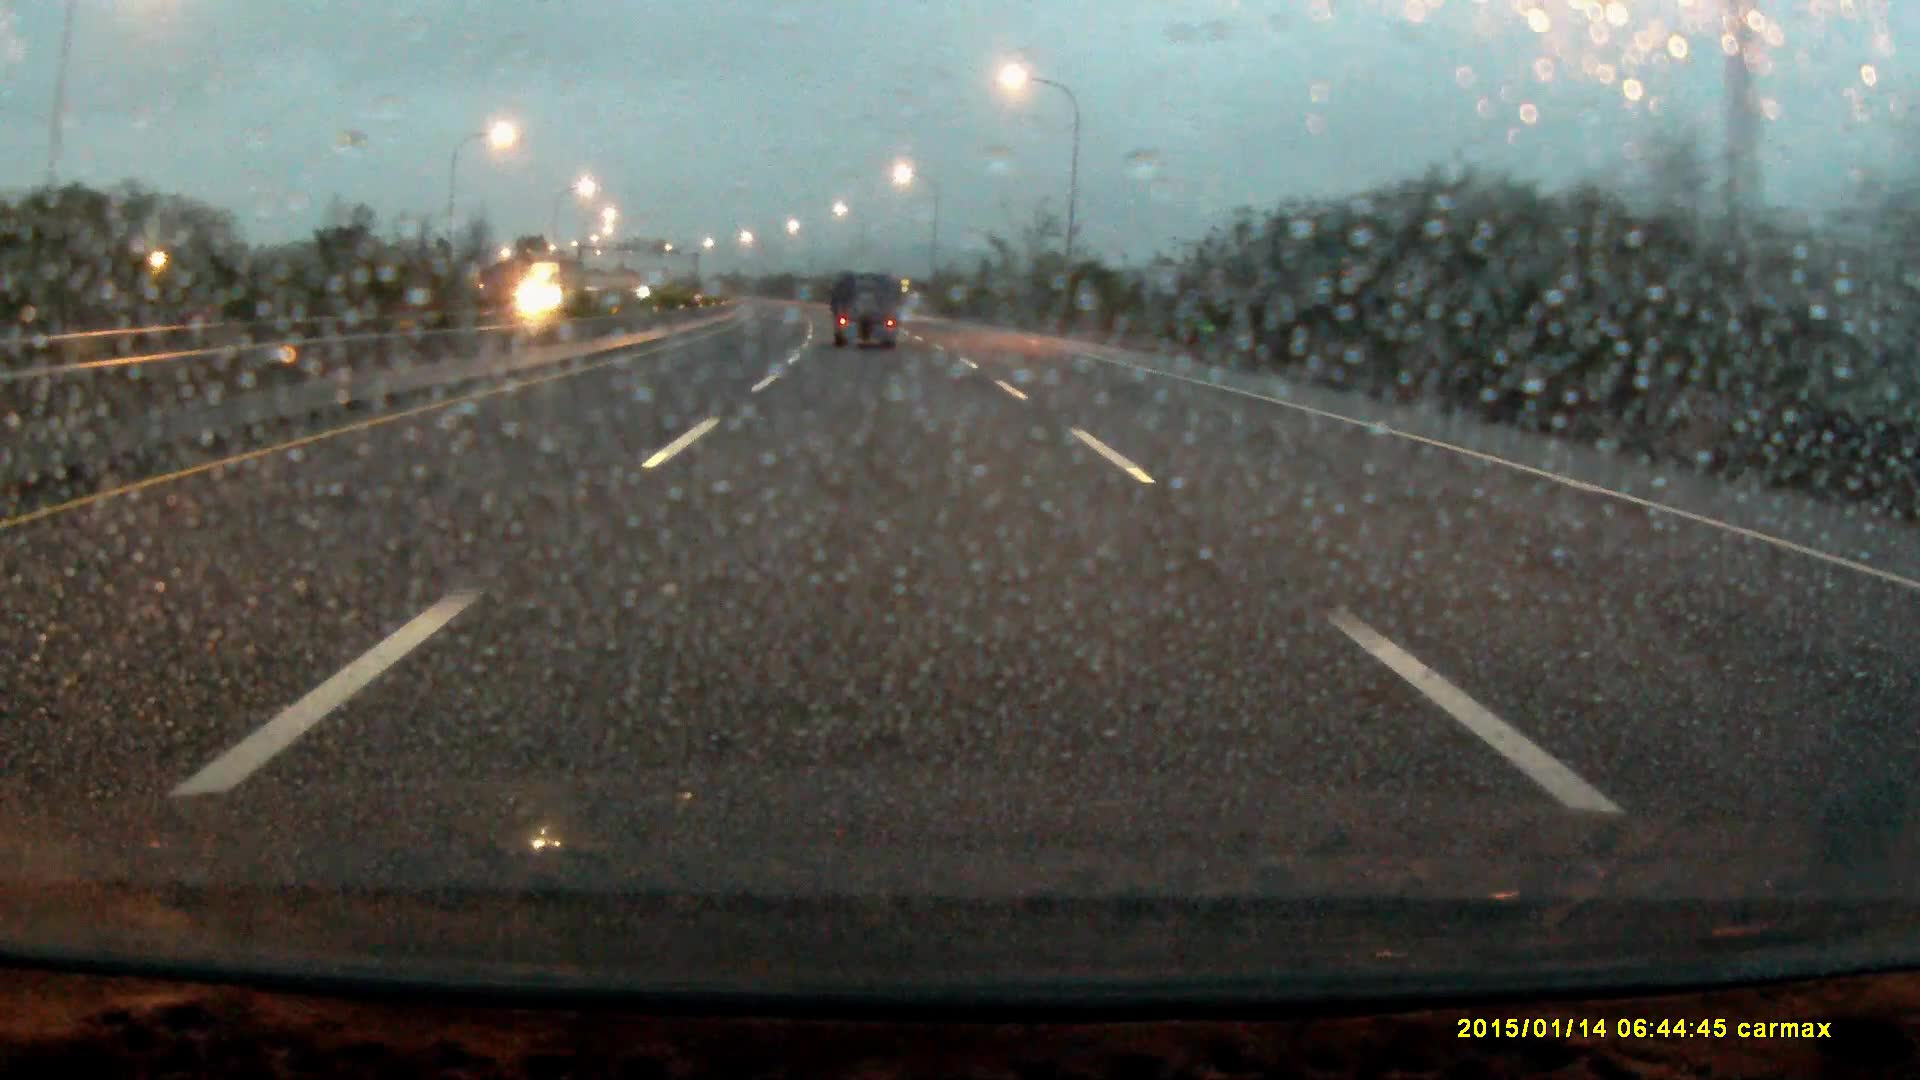vehicle: (833, 272, 903, 351), (520, 258, 603, 324)
